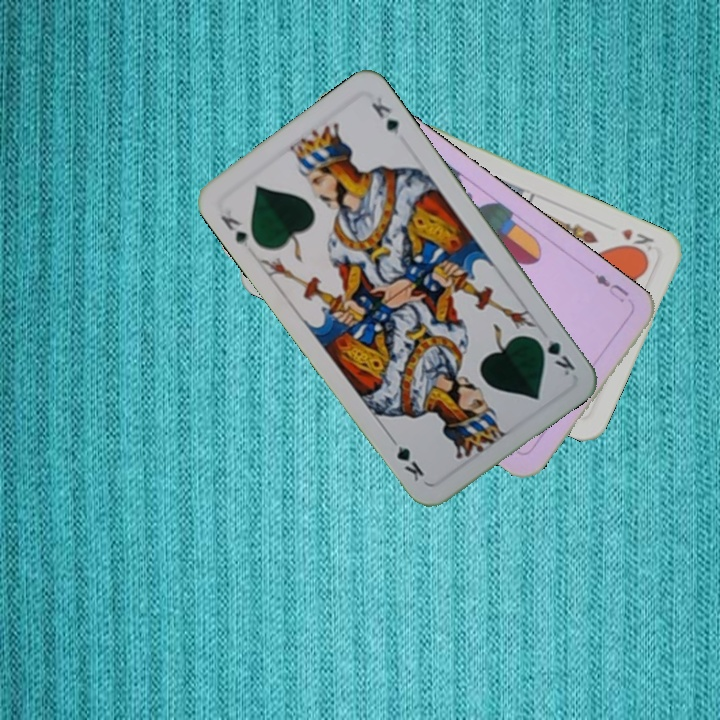EU: (590, 270, 631, 306)
GK: (531, 331, 578, 378), (216, 211, 255, 254)
HK: (616, 224, 657, 258)
